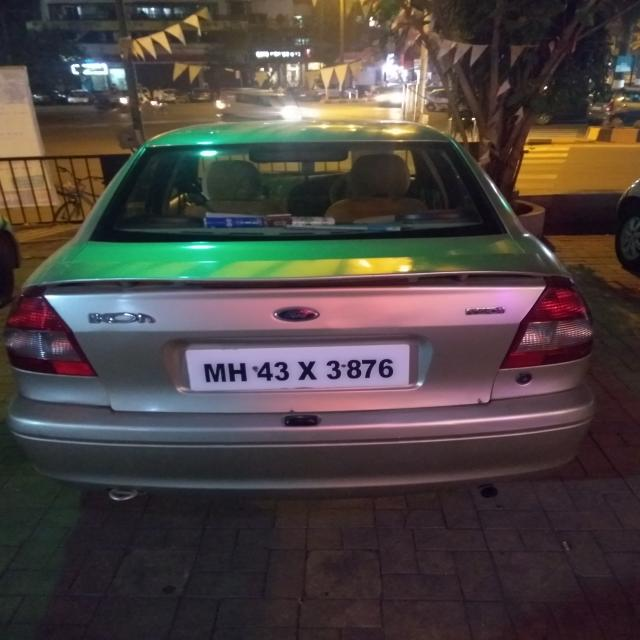Number-Plate: (196, 346, 409, 388)
